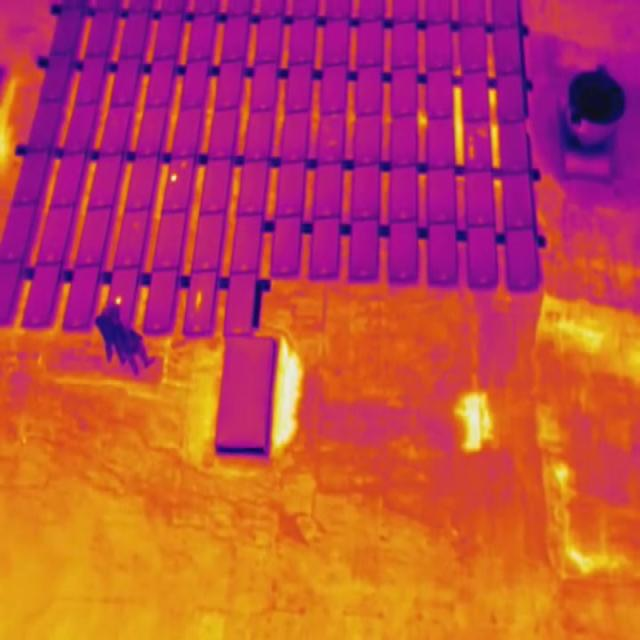Orange-Spots: (468, 134, 475, 159), (195, 291, 202, 309), (479, 126, 486, 136), (171, 173, 178, 182), (115, 296, 122, 304), (181, 162, 187, 170)
